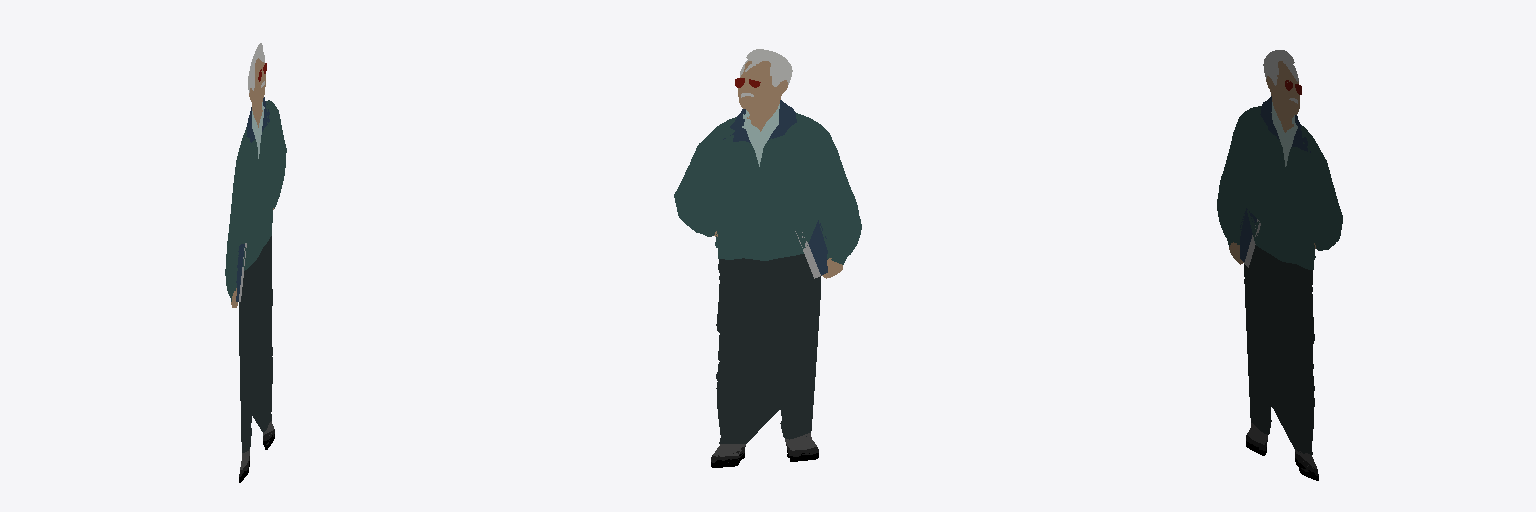
The model's file is yolcu.obj.
3 renders of one model, left to right at view 1: azimuth 30°, elevation 25°; view 2: azimuth 150°, elevation 25°; view 3: azimuth 270°, elevation 25°, orthographic.
Parts seen in each view (by area): view 1: Mesh1 Steve1 Model; view 2: Mesh1 Steve1 Model; view 3: Mesh1 Steve1 Model.
Part boxes in pixels (left/top/right/bottom): Mesh1 Steve1 Model: left=225, top=43, right=286, bottom=482; Mesh1 Steve1 Model: left=674, top=49, right=861, bottom=467; Mesh1 Steve1 Model: left=1217, top=50, right=1342, bottom=480.
Size of the model in its own units: 0.5306 by 1.69 by 0.4665.